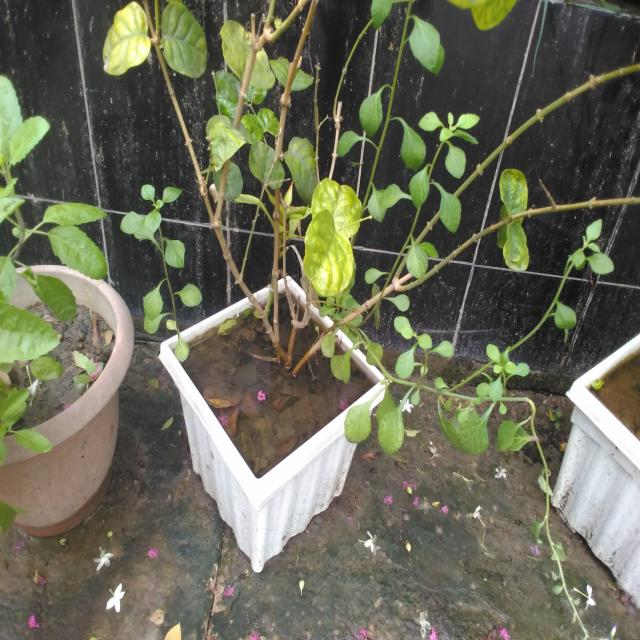artificial_container: (156, 272, 389, 577), (0, 260, 136, 541)
